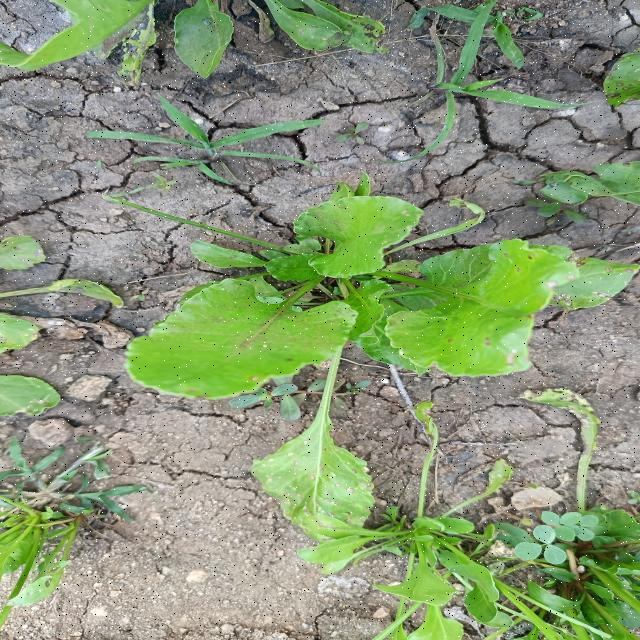leaves: (325, 237, 598, 396), (111, 241, 350, 412), (264, 308, 402, 559), (250, 175, 427, 324), (361, 494, 490, 610)
